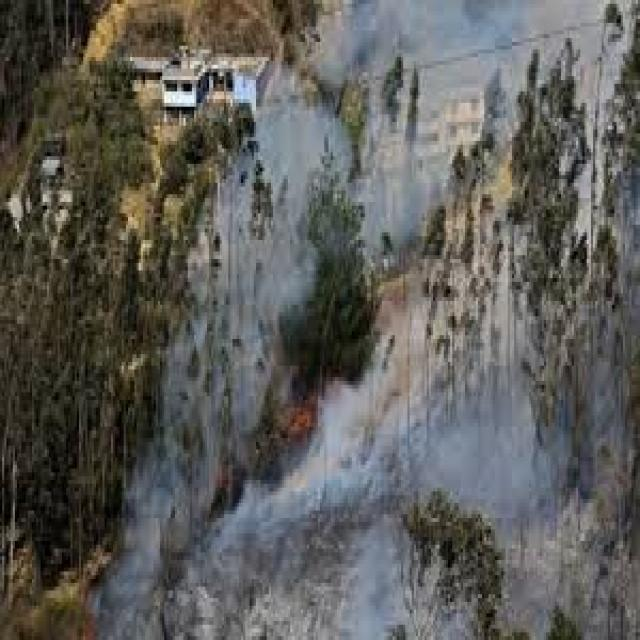Smoke: (301, 0, 640, 632), (93, 56, 303, 636)
